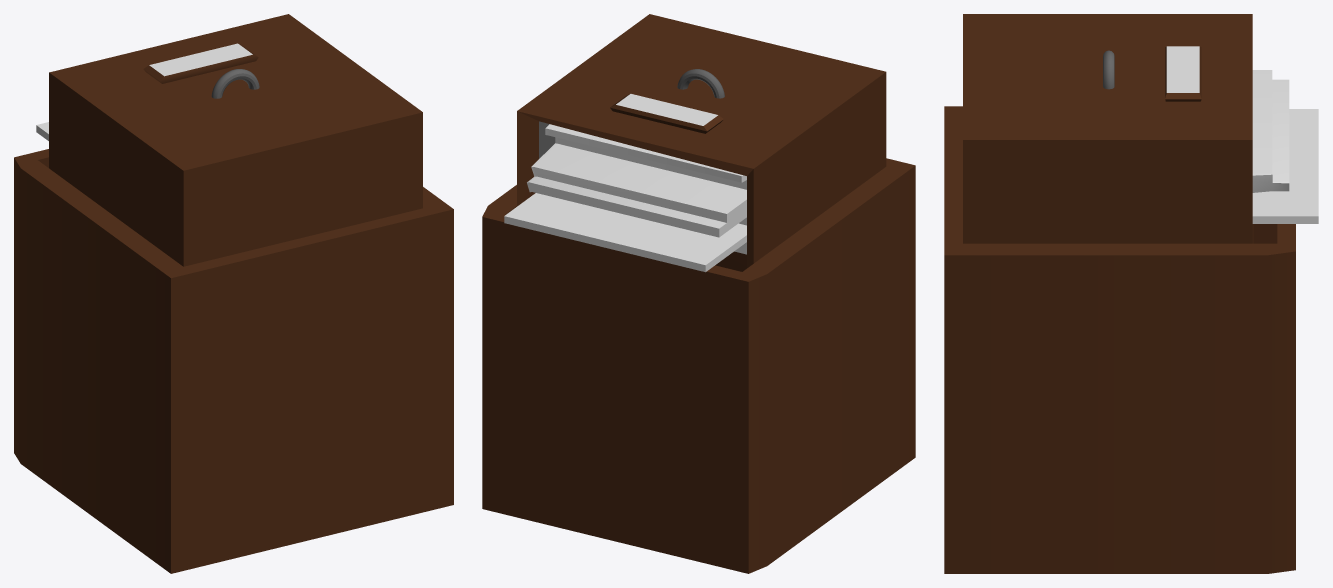
The model's file is OfficeFiles.fbx.
The picture shows the model from 3 angles, left to right: view 1: azimuth 30°, elevation 25°; view 2: azimuth 150°, elevation 25°; view 3: azimuth 270°, elevation 25°; orthographic projection. The views are drawn at different scales.
Parts seen in each view (by area): view 1: Office_Archive; view 2: Office_Archive; view 3: Office_Archive.
Boxes of the visible parts, bbox=[...] form: Office_Archive: bbox=[14, 14, 453, 573]; Office_Archive: bbox=[482, 14, 915, 573]; Office_Archive: bbox=[944, 14, 1318, 573].
Bounding box in the file's own units: 0.6007 × 0.8398 × 0.639.
